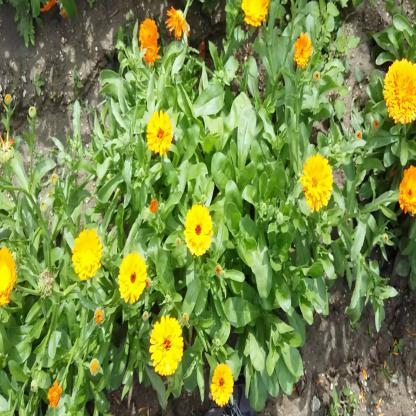marigold: (149, 317, 183, 374), (386, 58, 415, 123), (302, 154, 332, 207), (70, 229, 100, 279), (184, 203, 212, 255), (118, 254, 146, 302), (145, 108, 173, 154), (212, 365, 234, 408), (398, 164, 415, 214), (138, 17, 160, 50), (292, 33, 312, 68), (243, 0, 269, 26)
